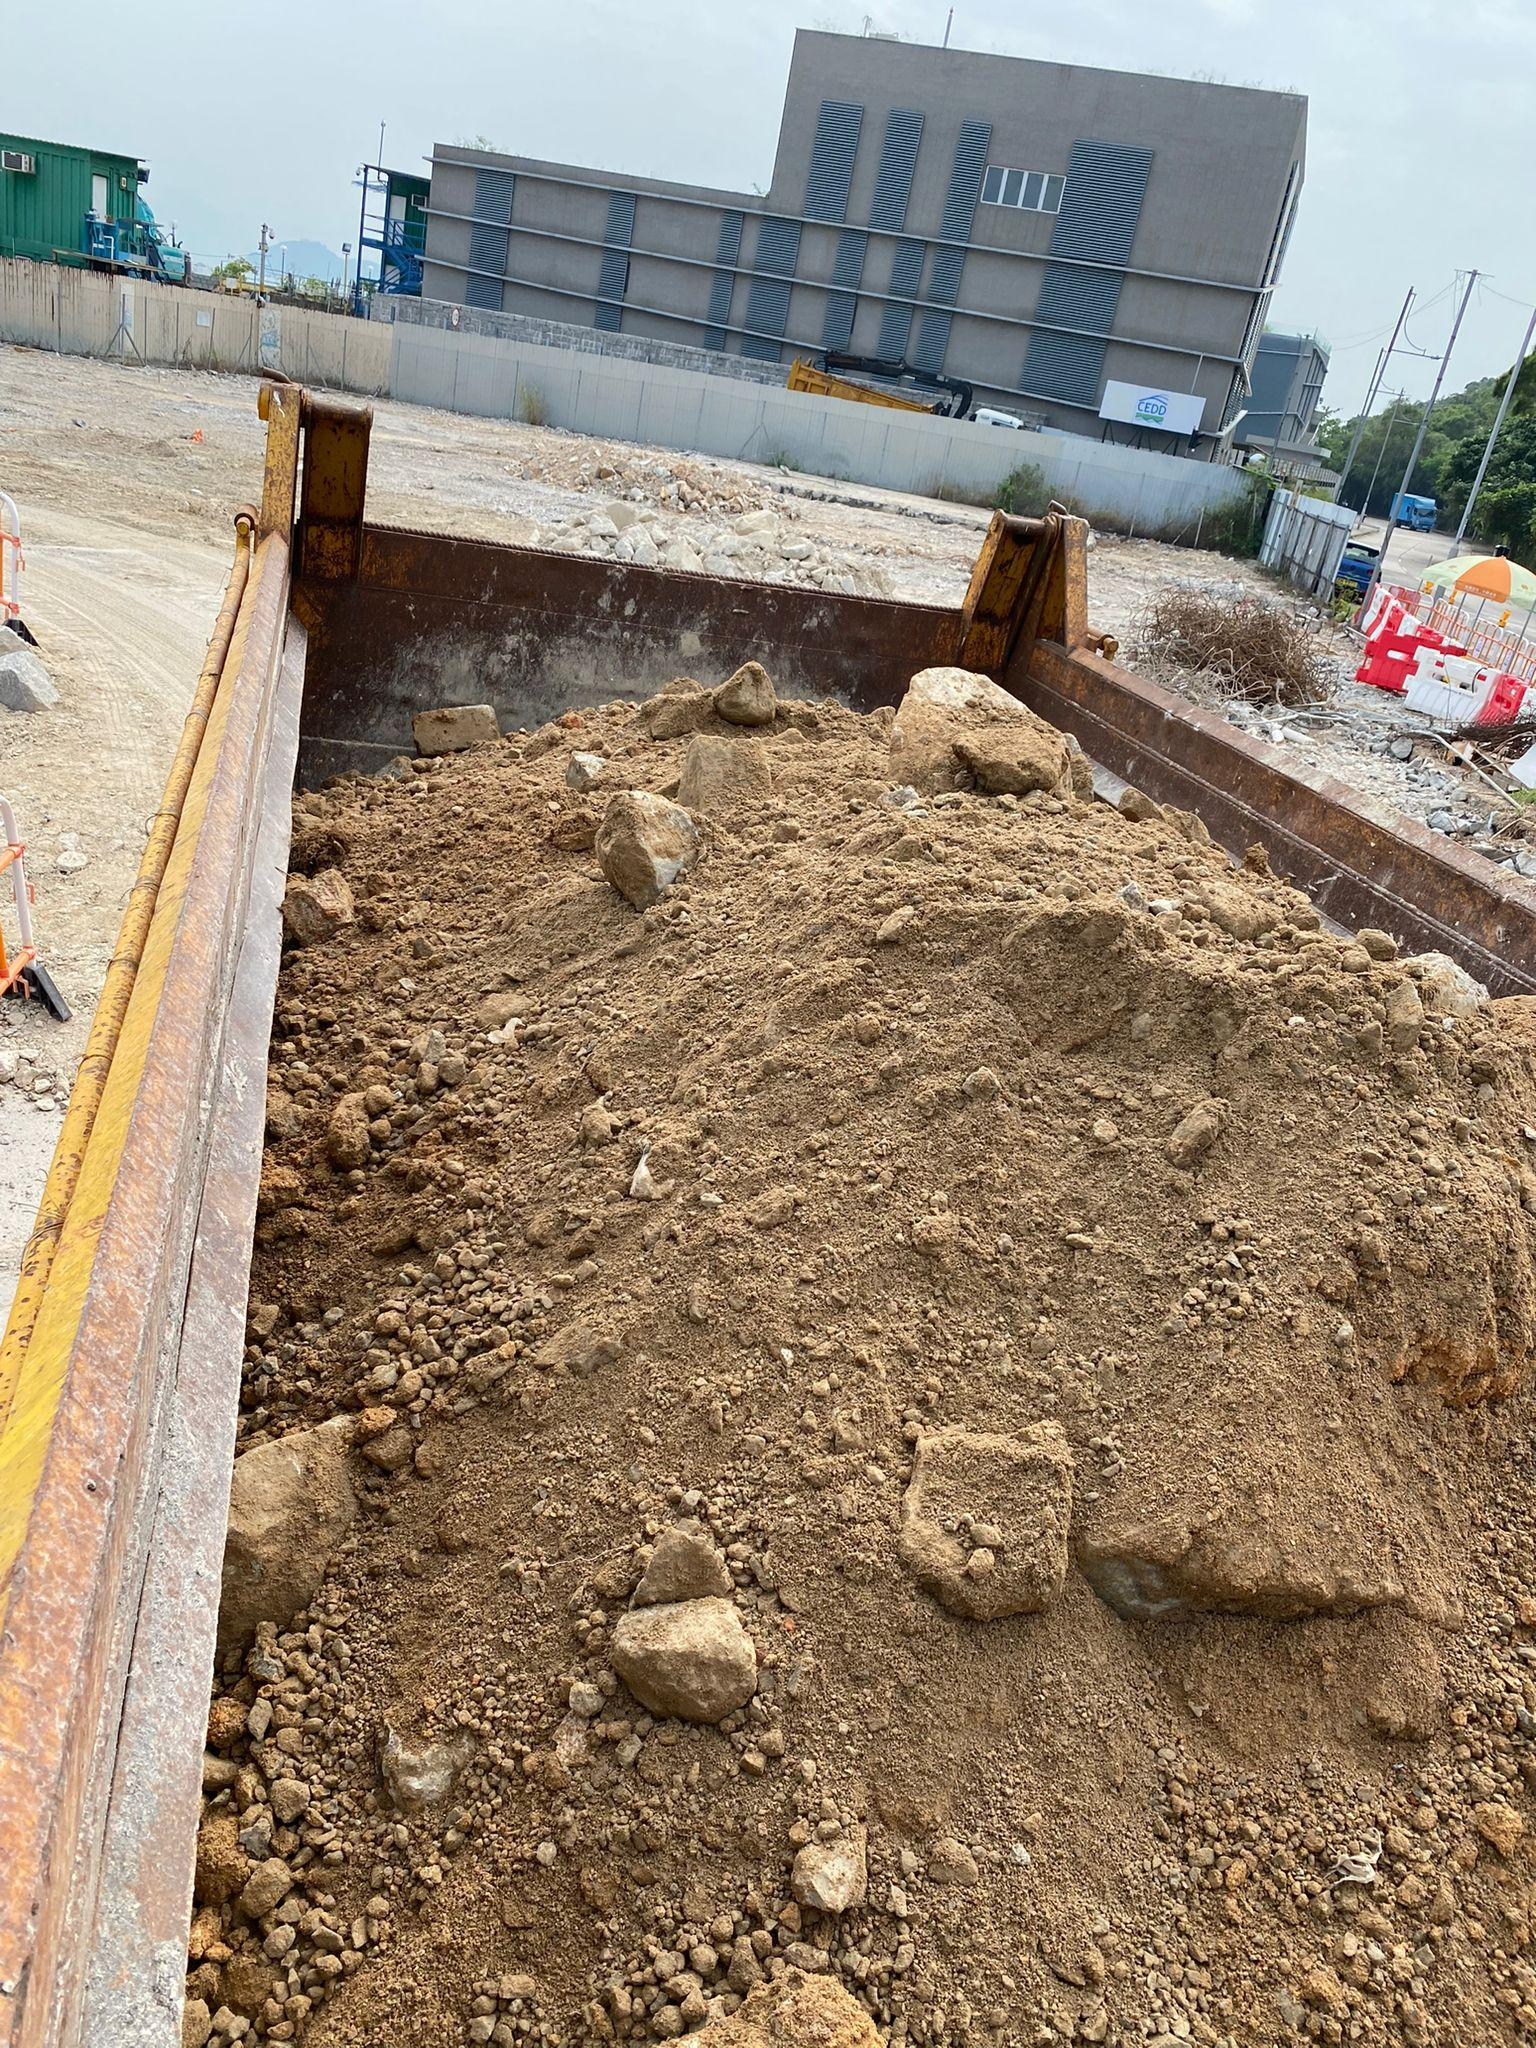wet: (226, 700, 1536, 2048)
